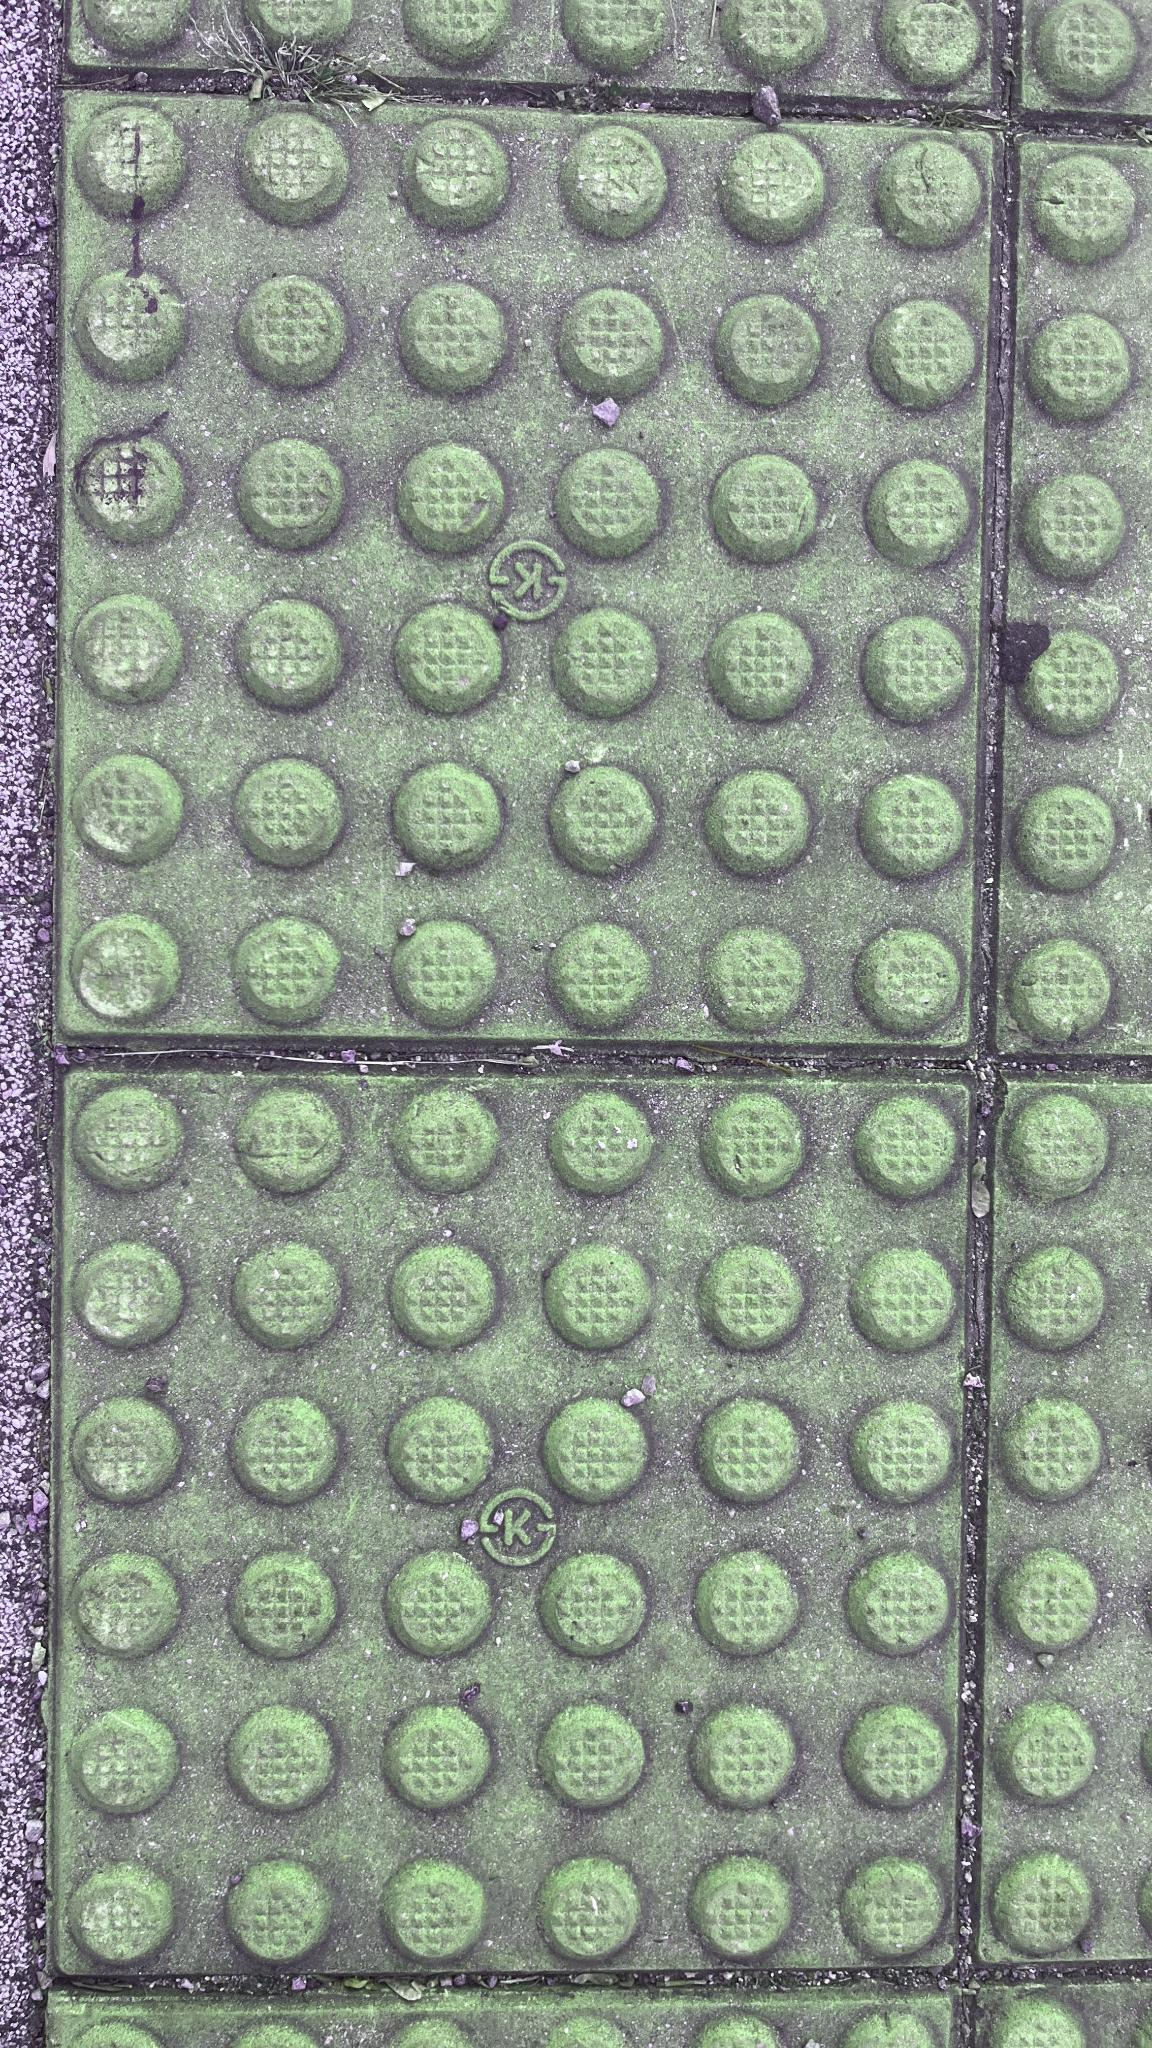Stop block normal: (73, 1075, 944, 1971)
